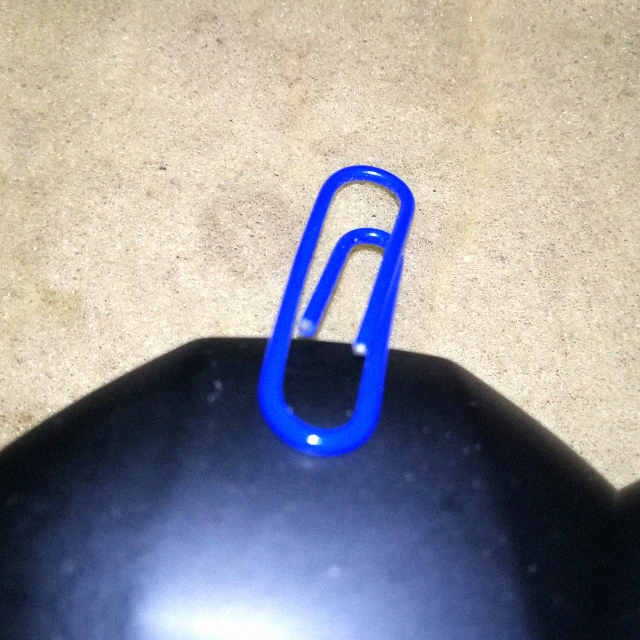pin: (255, 148, 420, 459)
